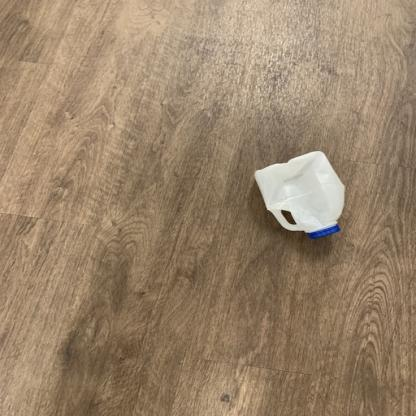trash: (251, 151, 348, 240)
